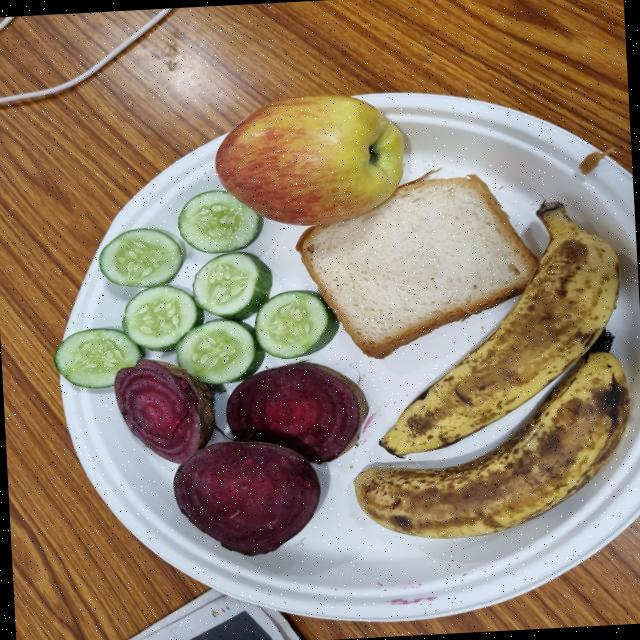apple: (216, 92, 410, 228)
banana: (382, 204, 623, 459), (356, 345, 625, 539)
cucumber: (253, 287, 343, 360), (177, 315, 264, 385), (99, 225, 194, 287), (195, 250, 276, 320), (178, 187, 265, 251), (57, 327, 147, 387), (124, 283, 202, 350)
